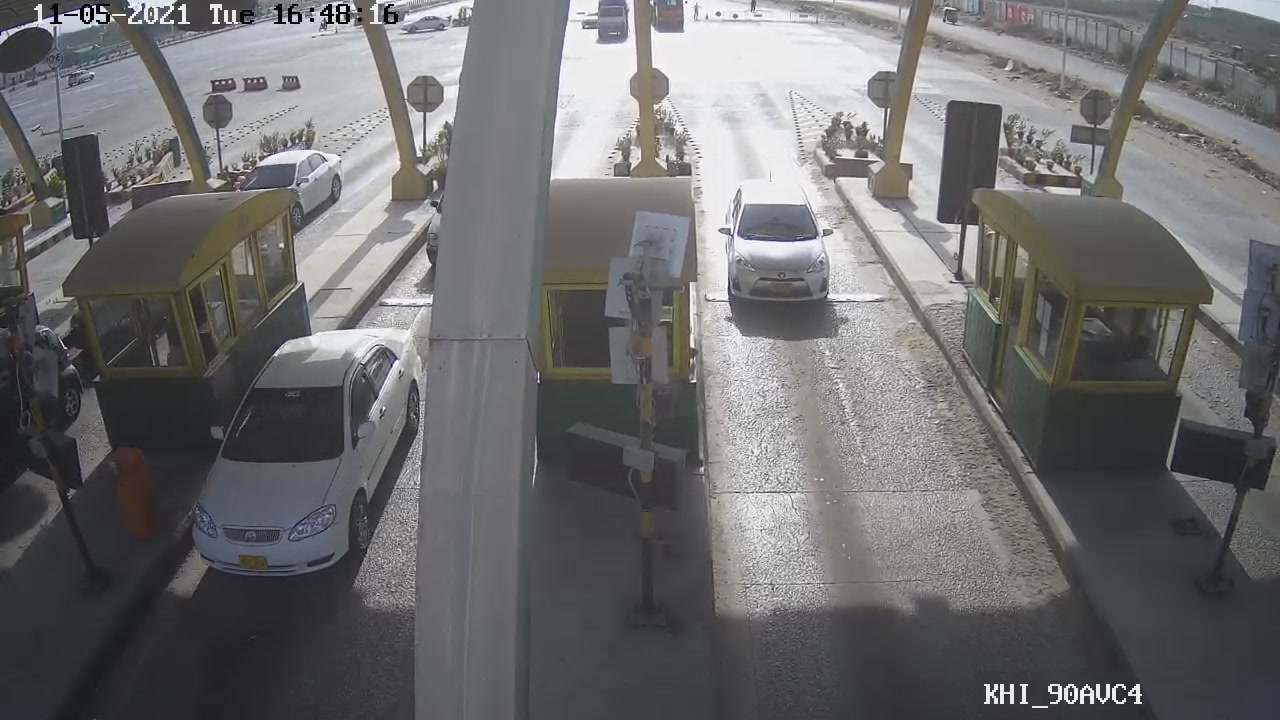F1: (717, 176, 838, 312)
